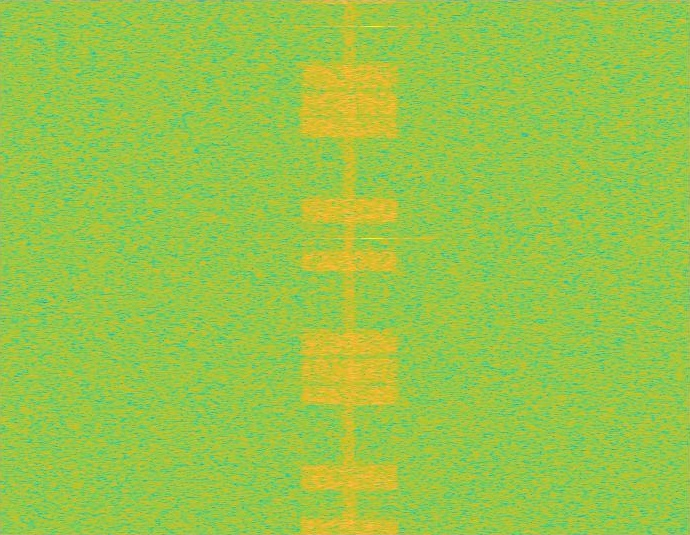DSSS: (343, 0, 357, 534)
LTE: (298, 0, 401, 534)
Radar: (366, 0, 380, 534)
